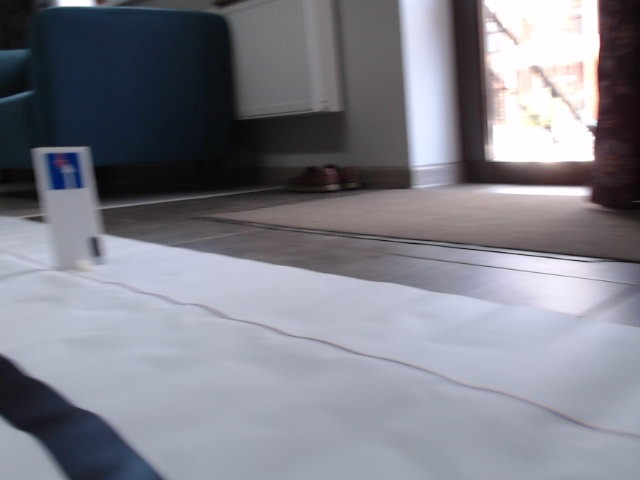priority_movement: (43, 151, 86, 192)
